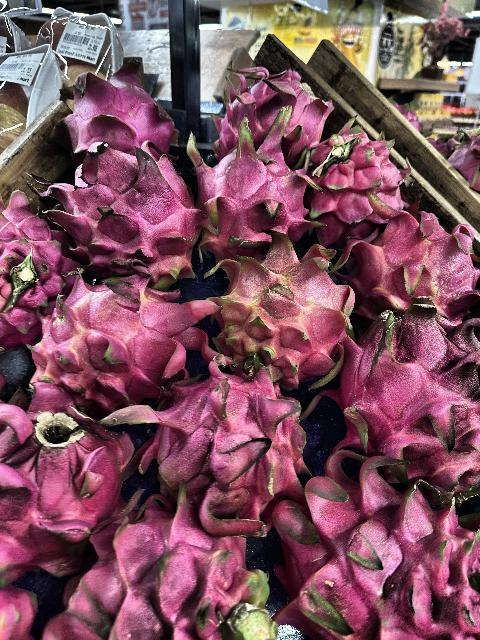buah-naga-belum-matang: (212, 239, 346, 375)
buah-naga-matang: (268, 454, 480, 640), (334, 302, 480, 496), (61, 516, 281, 640), (0, 381, 136, 574), (140, 364, 308, 514), (26, 272, 202, 408), (42, 142, 200, 282), (176, 120, 310, 242), (350, 212, 480, 312), (0, 188, 84, 334), (213, 60, 335, 150), (60, 61, 178, 150), (305, 130, 407, 232)
